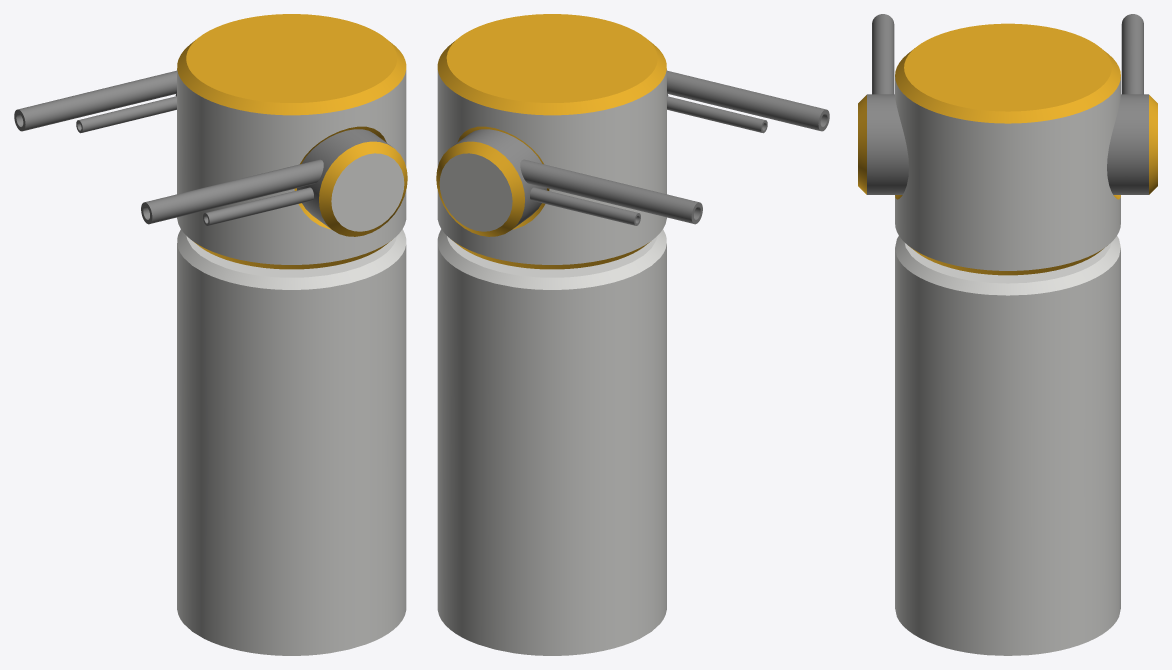
The model's file is Turret.fbx.
3 renders of one model, left to right at view 1: azimuth 30°, elevation 25°; view 2: azimuth 150°, elevation 25°; view 3: azimuth 270°, elevation 25°, orthographic.
Visible parts, largest first — view 1: Body1, Body2, Body6, Body3; view 2: Body1, Body2, Body3, Body6; view 3: Body1, Body2, Body6, Body3.
Boxes of the visible parts, x1,y1,x2,y2 form: Body1: (177, 229, 406, 655); Body2: (177, 14, 406, 269); Body6: (141, 129, 407, 236); Body3: (14, 70, 176, 133); Body1: (437, 229, 666, 655); Body2: (437, 14, 666, 269); Body3: (436, 129, 702, 236); Body6: (667, 70, 829, 133); Body1: (895, 236, 1120, 655); Body2: (895, 23, 1120, 275); Body6: (858, 14, 908, 194); Body3: (1107, 14, 1157, 194).
Size of the model in its own units: 77.45 by 132 by 66.36.
